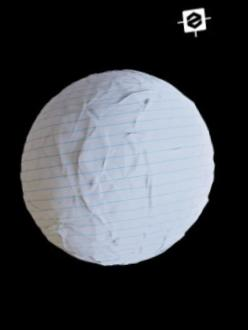paper: (0, 47, 244, 292)
